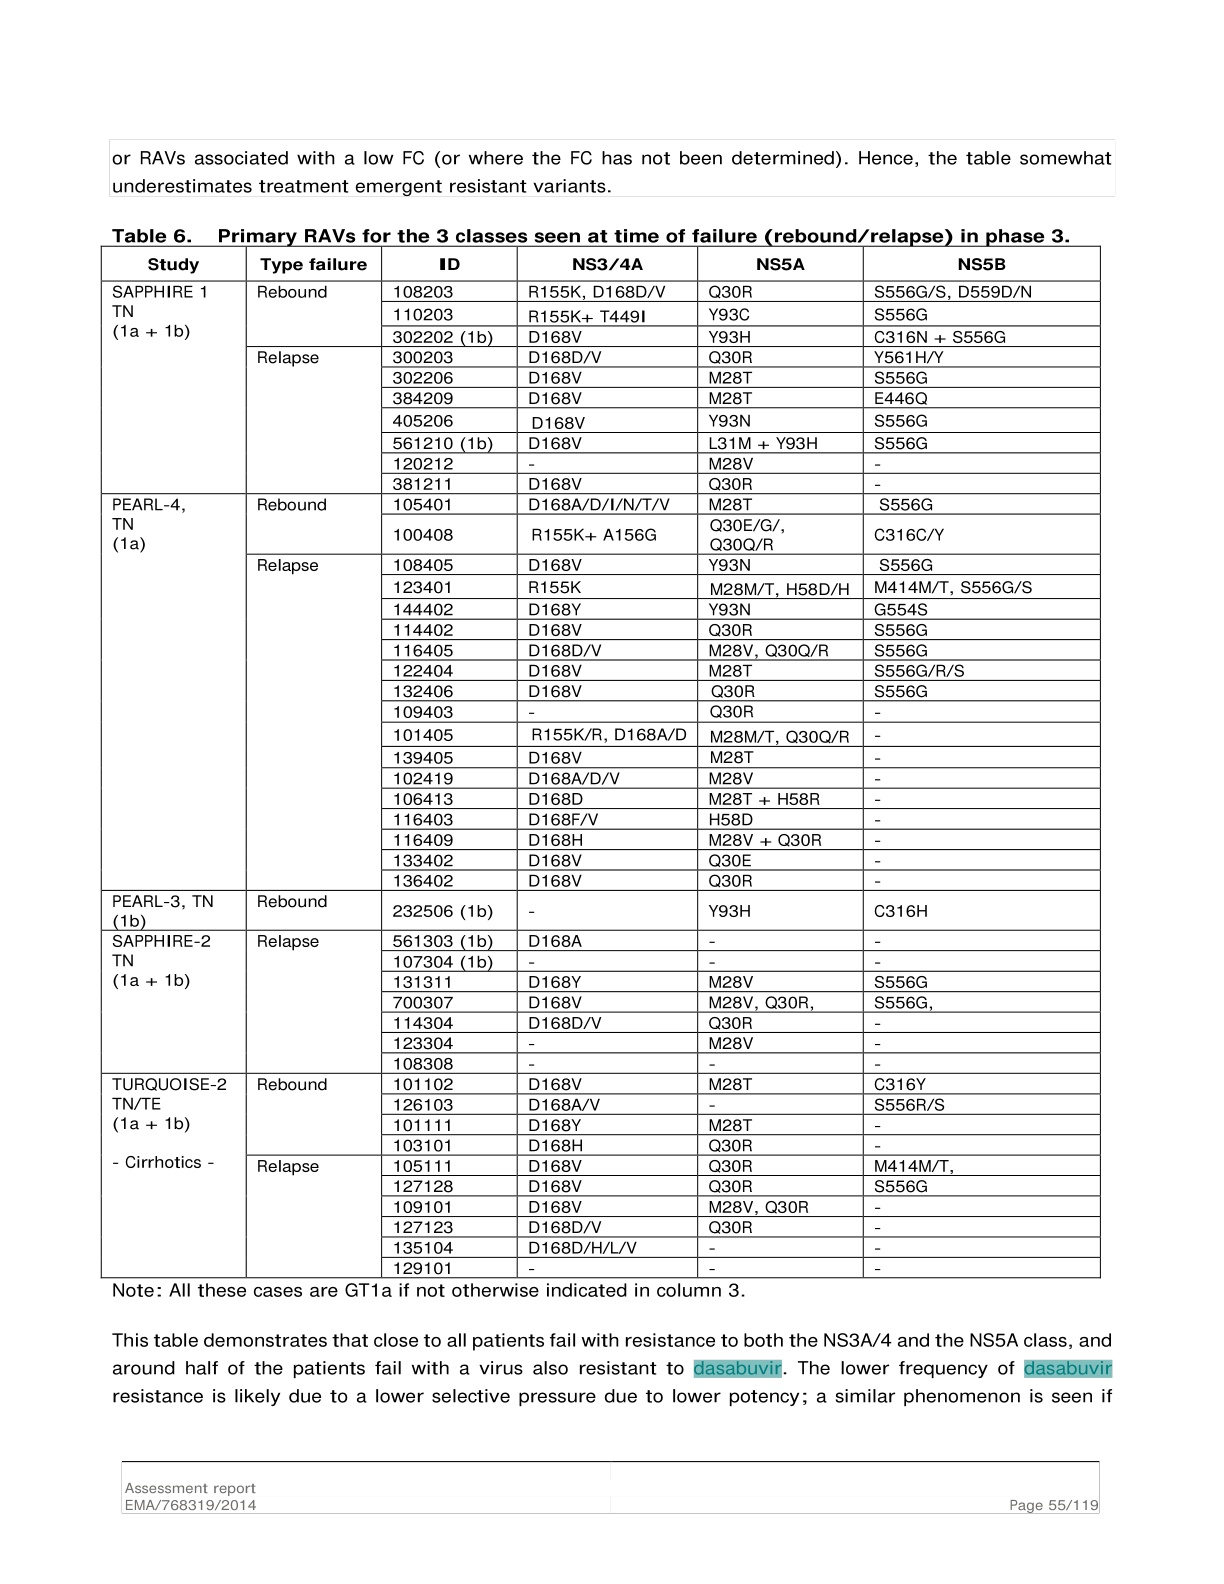merged_cells: (100, 246, 1102, 1281)
